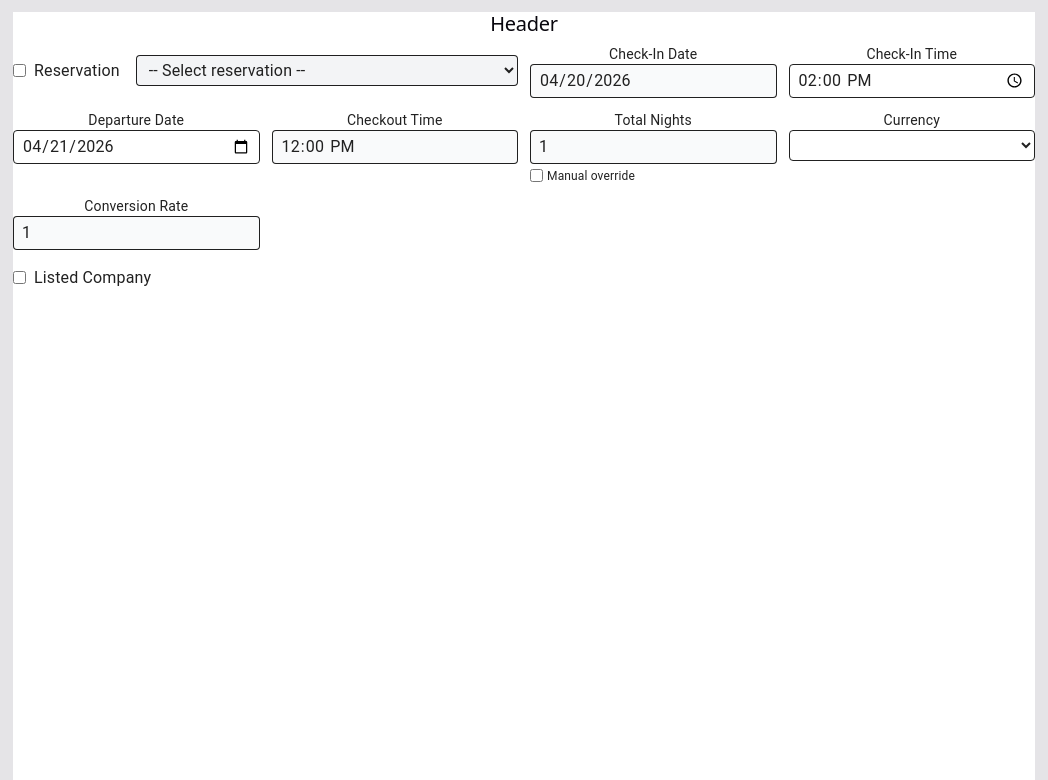
it: HeaderSection listed company › reveals Contact Person, Mobile, Payment Mode, Pay For when checked
Expected: the text "Contact Person" is not shown
Expected: the text "Mobile" is not shown
Click the checkbox labelled "Listed Company" at (20, 278), box [13,271,26,284]
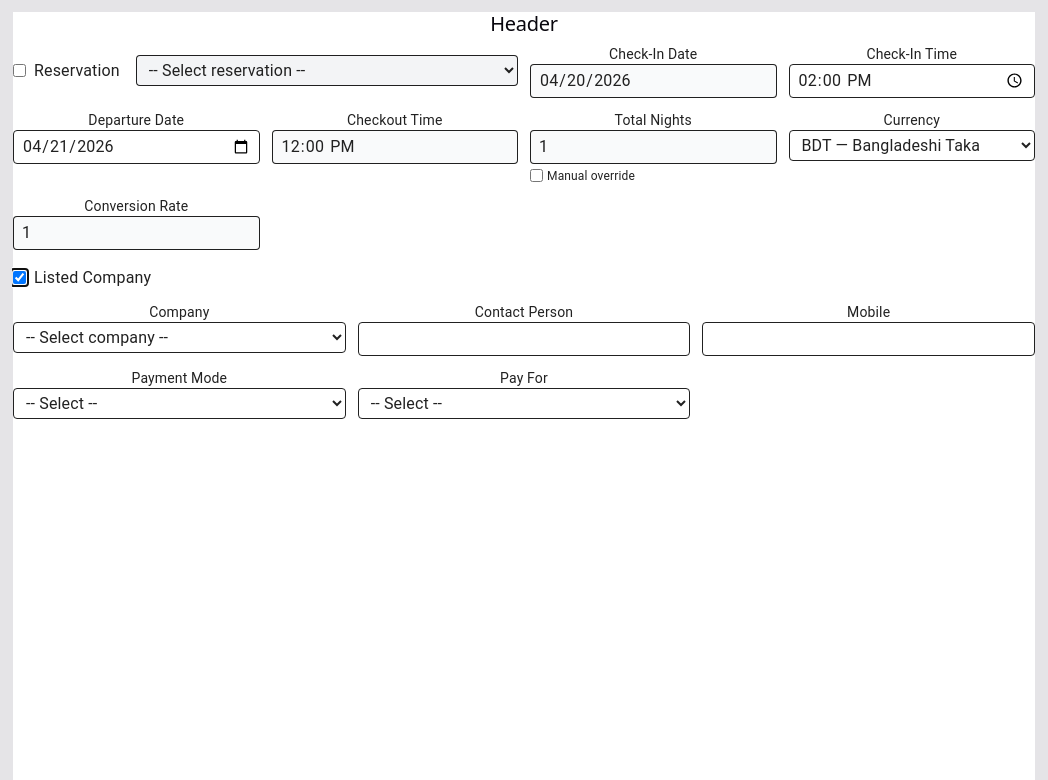
Now the text "Contact Person" is shown, box [475,304,573,320]
Now the text "Mobile" is shown, box [847,304,890,320]
Now the text "Payment Mode" is shown, box [132,370,227,386]
